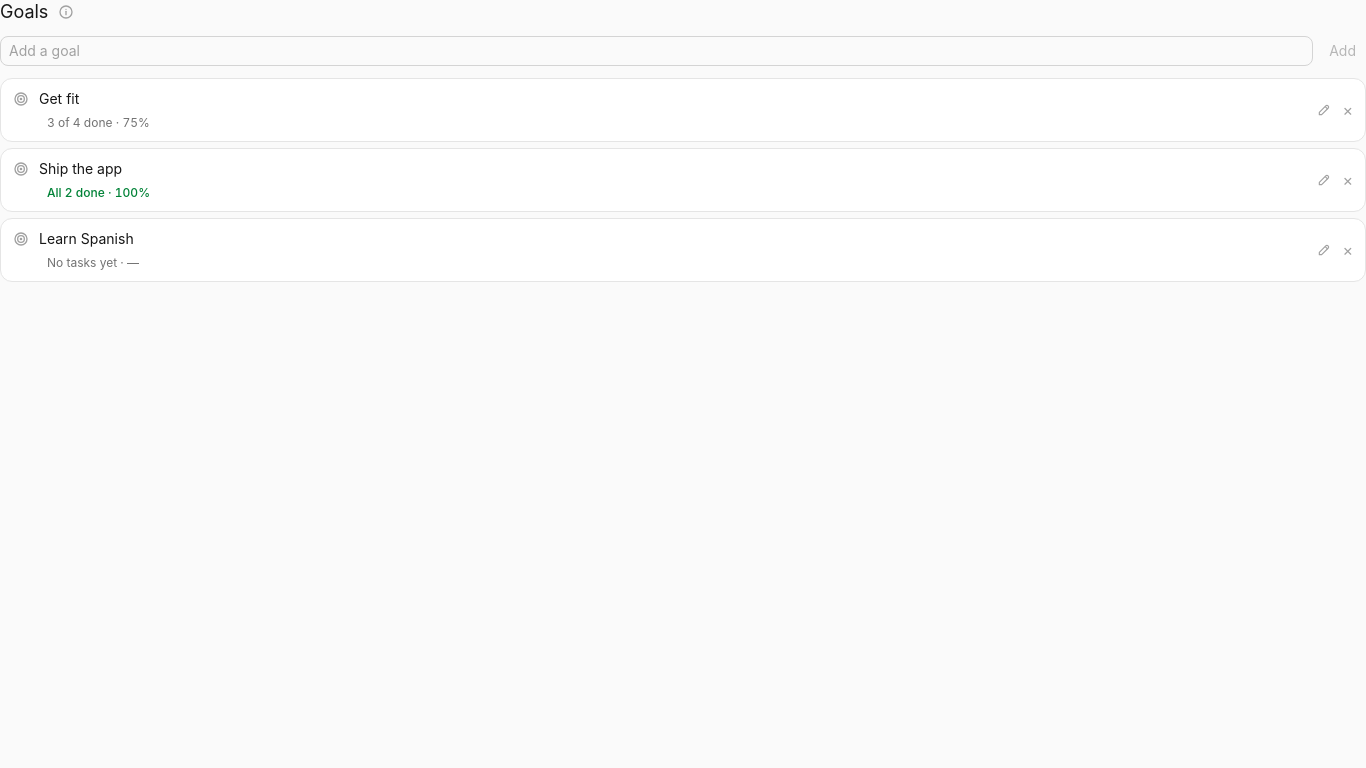
deleting a goal › asks first, in a sheet, saying its tasks stay (GOAL-17)
The image size is (1366, 768).
Click the button named "Delete the goal \"Get fit\"".
click(1348, 110)  # box [1336,98,1359,122]
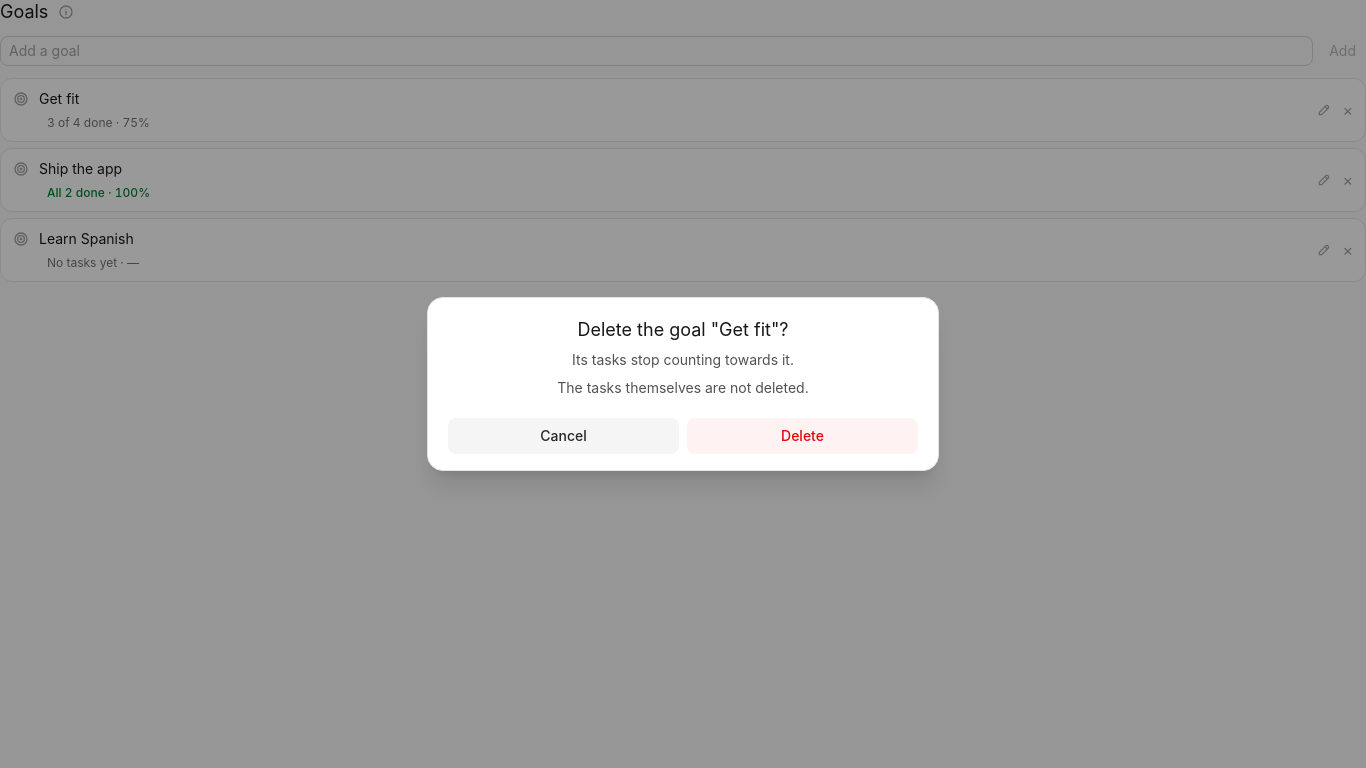
Click the button "Delete".
click(802, 436)  # box [687,418,918,454]
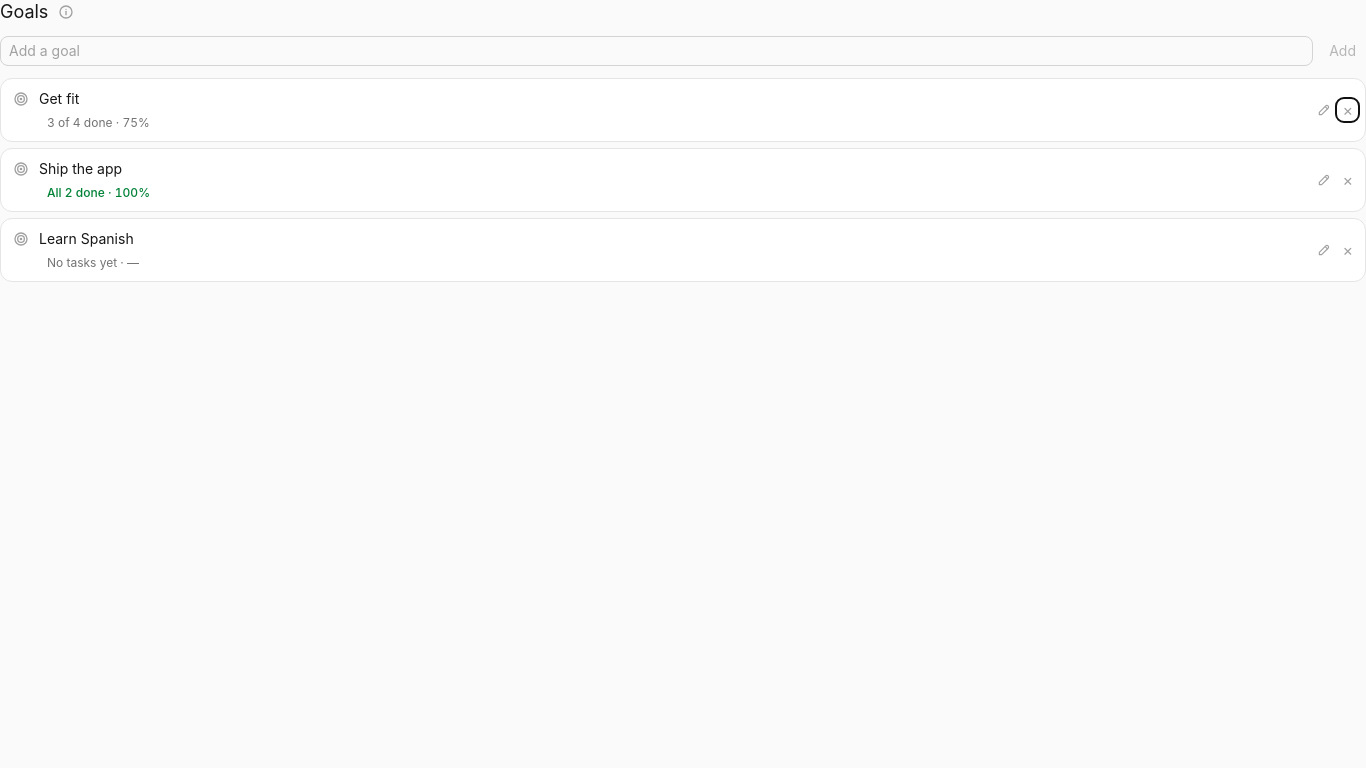
Expected: the dialog is gone
